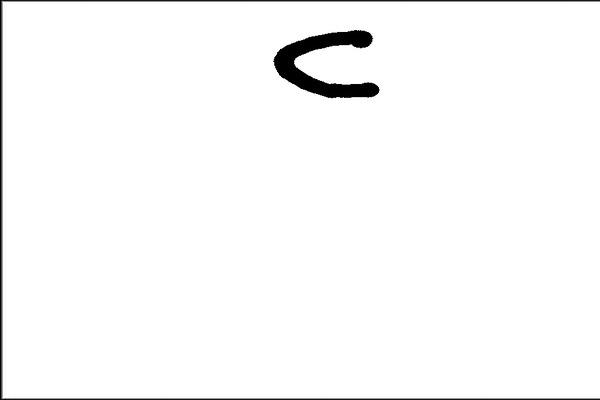C: (266, 22, 384, 107)
